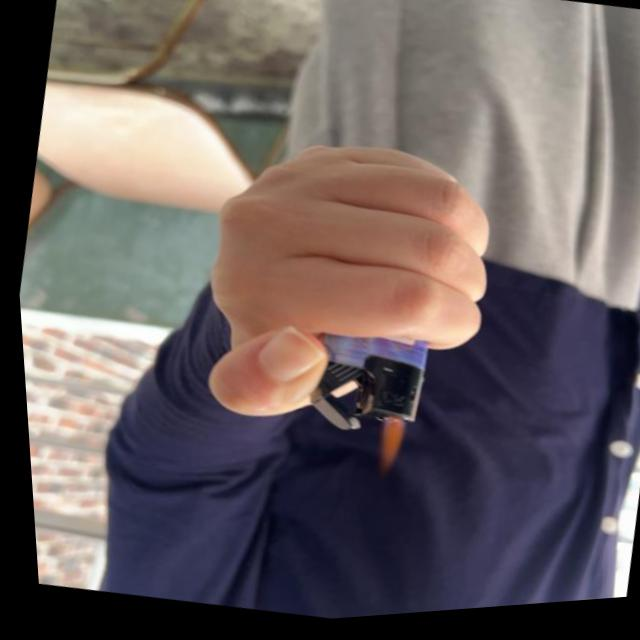Fire: (363, 416, 405, 478)
